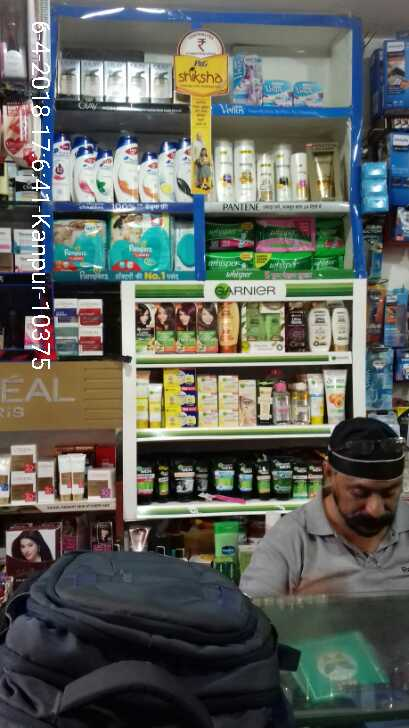gillete: (366, 347, 392, 411), (363, 223, 384, 278)
venus: (233, 45, 262, 105), (293, 81, 322, 107), (262, 81, 291, 105)
